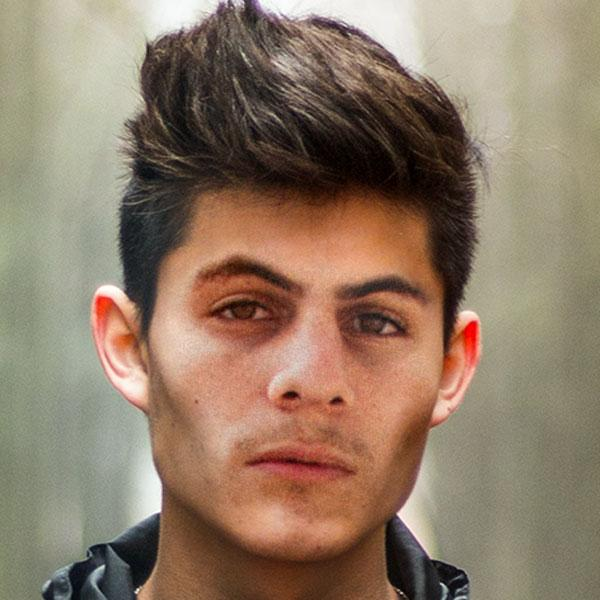Eyes: (199, 281, 289, 336), (334, 298, 416, 348)
